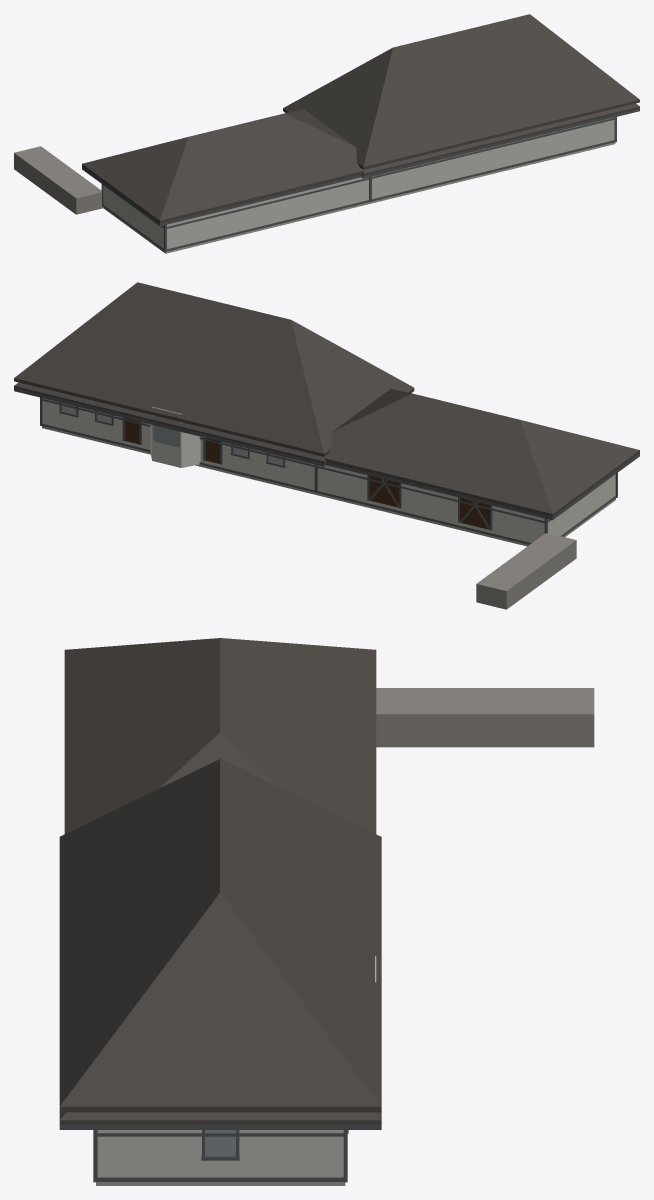
The model's file is Standard_22_Depot.glb.
The picture shows the model from 3 angles, top to bottom: view 1: azimuth 30°, elevation 25°; view 2: azimuth 150°, elevation 25°; view 3: azimuth 270°, elevation 25°; orthographic projection. The views are drawn at different scales.
Visible parts, largest first — view 1: roof, walls, trim, platform, foundation; view 2: roof, walls, trim, platform, doors, foundation, glass; view 3: roof, platform, walls, trim, foundation.
Part boxes in pixels (bbox=[...]): roof: bbox=[82, 14, 639, 223]; walls: bbox=[103, 117, 614, 248]; trim: bbox=[82, 108, 639, 251]; platform: bbox=[14, 146, 103, 214]; foundation: bbox=[103, 142, 615, 253]; roof: bbox=[14, 282, 639, 516]; walls: bbox=[42, 398, 615, 542]; trim: bbox=[14, 388, 639, 544]; platform: bbox=[476, 533, 576, 609]; doors: bbox=[124, 418, 489, 529]; foundation: bbox=[42, 426, 615, 546]; glass: bbox=[62, 406, 282, 464]; roof: bbox=[59, 638, 381, 1124]; platform: bbox=[376, 688, 594, 747]; walls: bbox=[97, 956, 376, 1177]; trim: bbox=[59, 1124, 381, 1182]; foundation: bbox=[96, 1182, 345, 1185].
Size of the model in its own units: 1.15 by 0.2687 by 0.5413.
